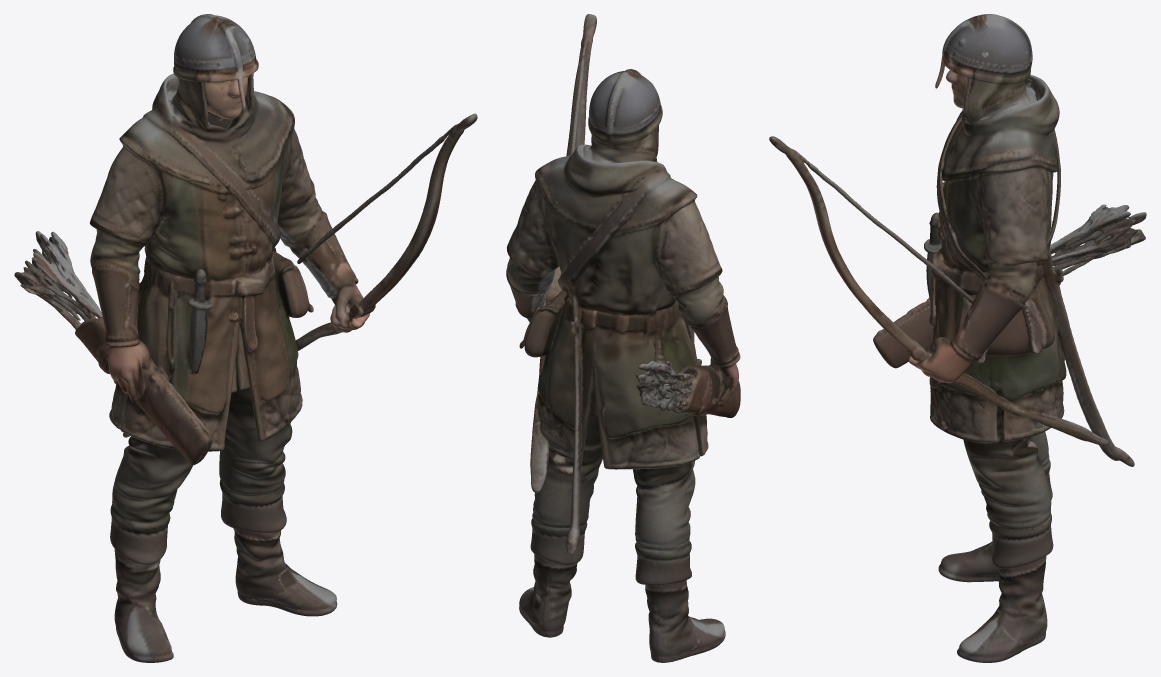
Rendered from tripo_convert_da5f1590-06c2-4ee8-b618-50fa937d4ad0.glb.
The picture shows the model from 3 angles, left to right: view 1: azimuth 30°, elevation 25°; view 2: azimuth 150°, elevation 25°; view 3: azimuth 270°, elevation 25°; orthographic projection. The views are drawn at different scales.
Parts seen in each view (by area): view 1: tripo_node_da5f1590-06c2-4ee8-b618-50fa937d4ad0; view 2: tripo_node_da5f1590-06c2-4ee8-b618-50fa937d4ad0; view 3: tripo_node_da5f1590-06c2-4ee8-b618-50fa937d4ad0.
Part boxes in pixels (left/top/right/bottom): tripo_node_da5f1590-06c2-4ee8-b618-50fa937d4ad0: left=14, top=14, right=477, bottom=662; tripo_node_da5f1590-06c2-4ee8-b618-50fa937d4ad0: left=506, top=14, right=740, bottom=662; tripo_node_da5f1590-06c2-4ee8-b618-50fa937d4ad0: left=769, top=14, right=1146, bottom=662.
Size of the model in its own units: 0.4816 by 1 by 0.5733.
1 material, 1 textured.
